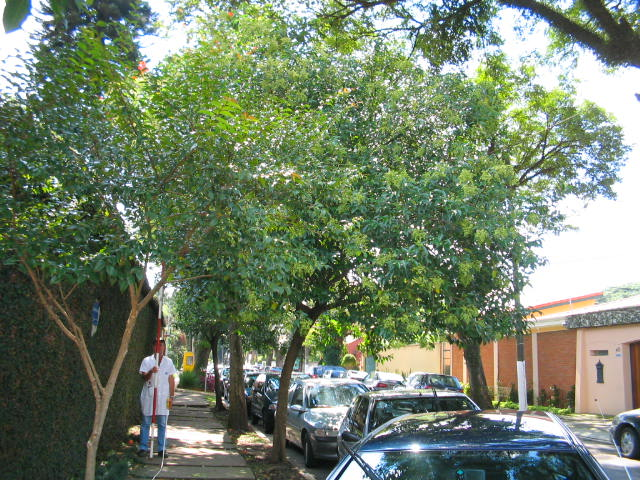crown: (107, 5, 633, 349)
stem: (267, 329, 312, 463), (219, 334, 254, 431)
stick: (146, 261, 171, 460)
tree: (105, 3, 633, 461)
